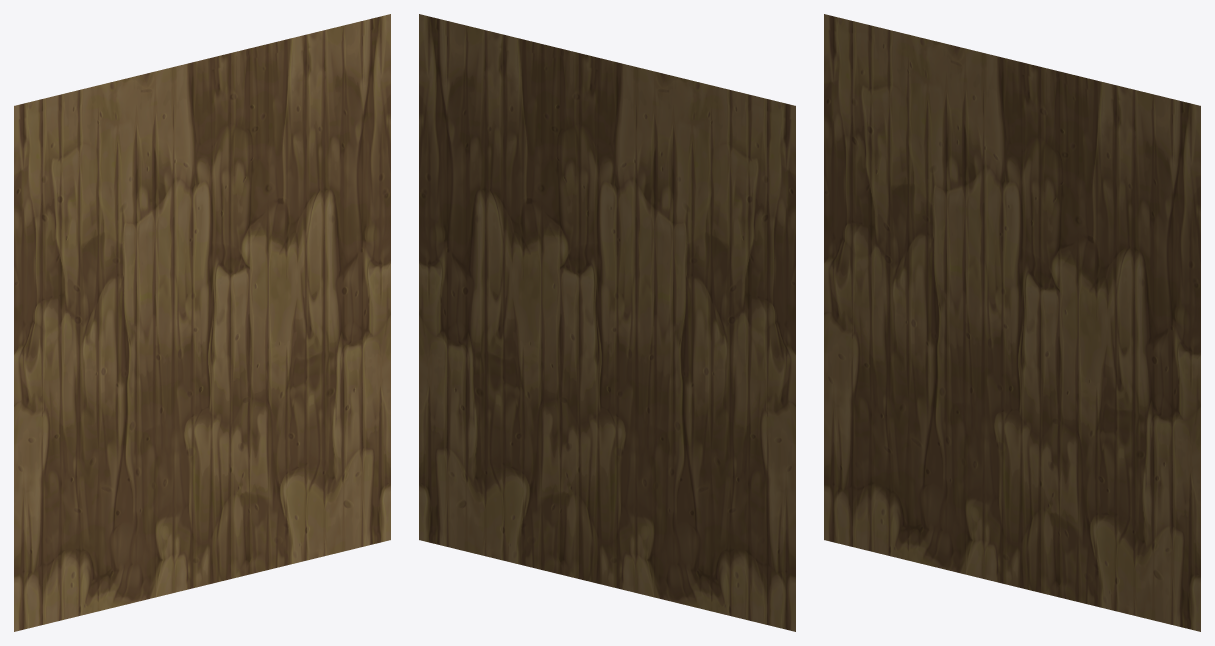
Rendered from Door.fbx.
3 renders of one model, left to right at view 1: azimuth 30°, elevation 25°; view 2: azimuth 150°, elevation 25°; view 3: azimuth 330°, elevation 25°, orthographic.
Parts seen in each view (by area): view 1: Door; view 2: Door; view 3: Door.
Part boxes in pixels (x1,y1,x2,y2): Door: [14, 14, 390, 631]; Door: [419, 14, 795, 631]; Door: [824, 14, 1200, 631].
Size of the model in its own units: 2 by 2.67 by 9.99e-16.
